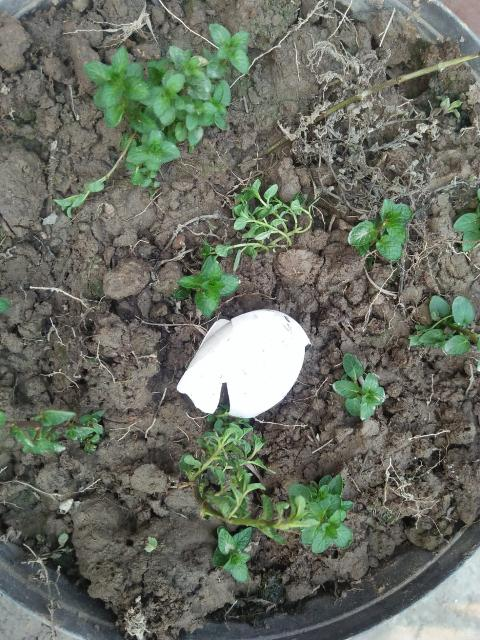Roto: (175, 308, 311, 420)
